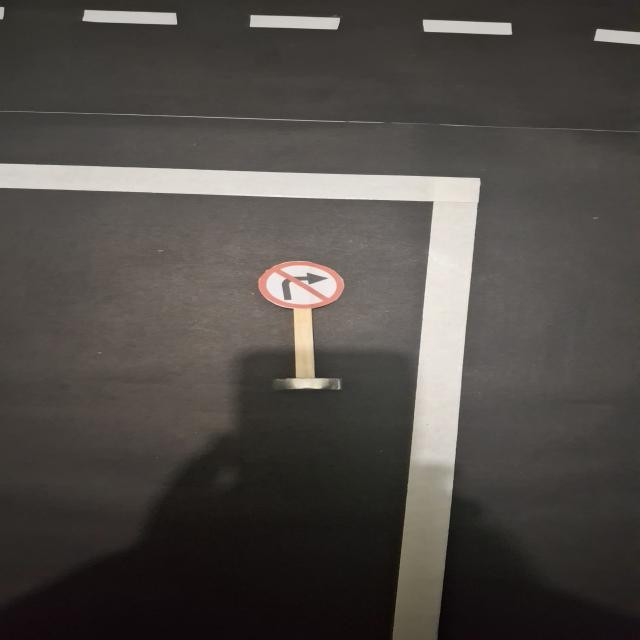Dilarang Belok Kanan: (259, 262, 344, 308)
